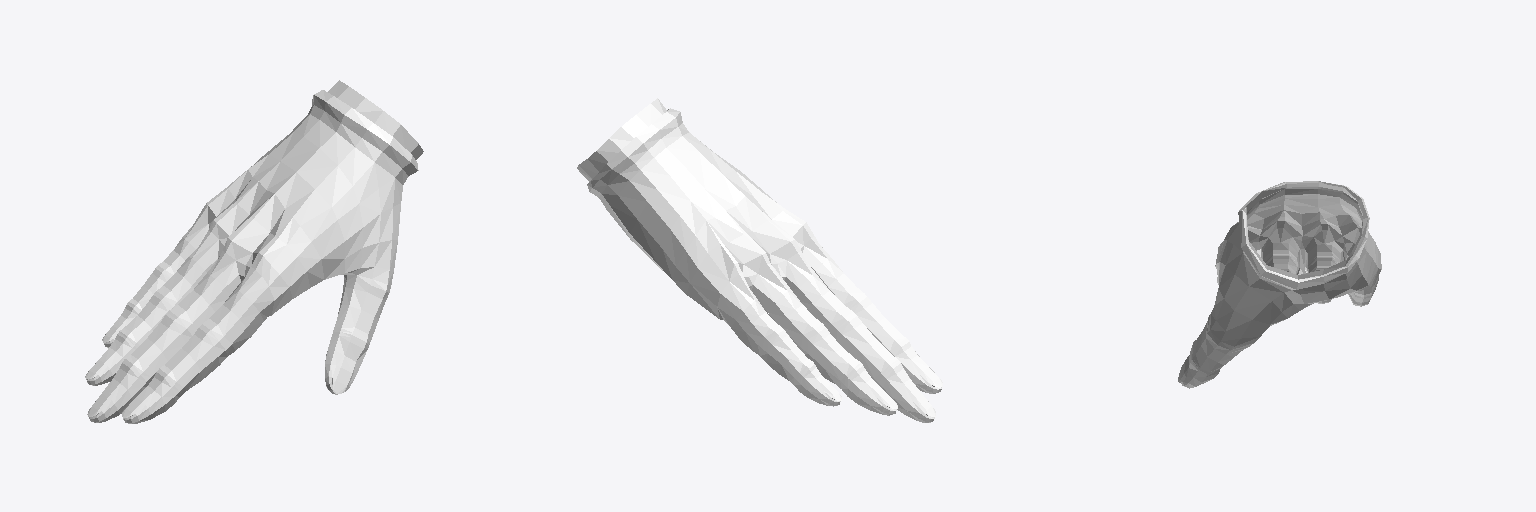
The model's file is Blade_ManoDer.obj.
The picture shows the model from 3 angles: view 1: azimuth 30°, elevation 25°; view 2: azimuth 150°, elevation 25°; view 3: azimuth 270°, elevation 25°; orthographic projection.
Visible parts, largest first — view 1: Mano_Der; view 2: Mano_Der; view 3: Mano_Der.
Part boxes in pixels (left/top/right/bottom): Mano_Der: left=85, top=80, right=423, bottom=423; Mano_Der: left=577, top=98, right=942, bottom=422; Mano_Der: left=1178, top=181, right=1381, bottom=388.
Bounding box in the file's own units: 0.9915 × 0.7232 × 0.5209.